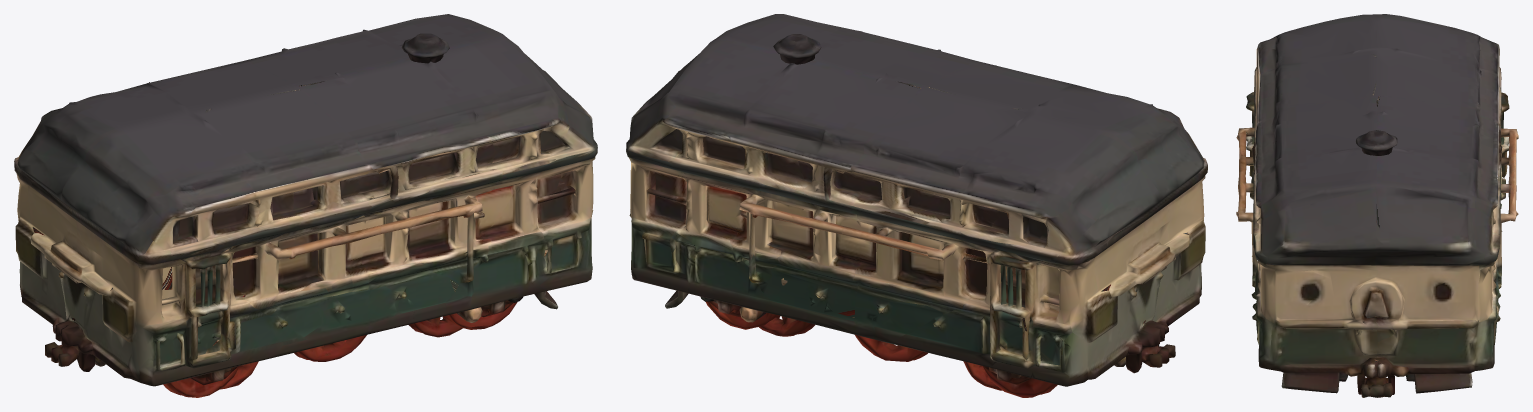
Rendered from train.glb.
The picture shows the model from 3 angles, left to right: view 1: azimuth 30°, elevation 25°; view 2: azimuth 150°, elevation 25°; view 3: azimuth 270°, elevation 25°; orthographic projection. The views are drawn at different scales.
Visible parts, largest first — view 1: wagon-voyageurs, locomotive; view 2: wagon-voyageurs, locomotive; view 3: wagon-voyageurs, locomotive.
Boxes of the visible parts, x1,y1,x2,y2 form: wagon-voyageurs: [14, 14, 597, 397]; locomotive: [95, 33, 557, 389]; wagon-voyageurs: [626, 14, 1207, 397]; locomotive: [665, 34, 1125, 390]; wagon-voyageurs: [1236, 14, 1518, 397]; locomotive: [1281, 130, 1472, 393].
Size of the model in its own units: 7 by 3.57 by 3.82.
Materials: 1 (1 with a texture image).
